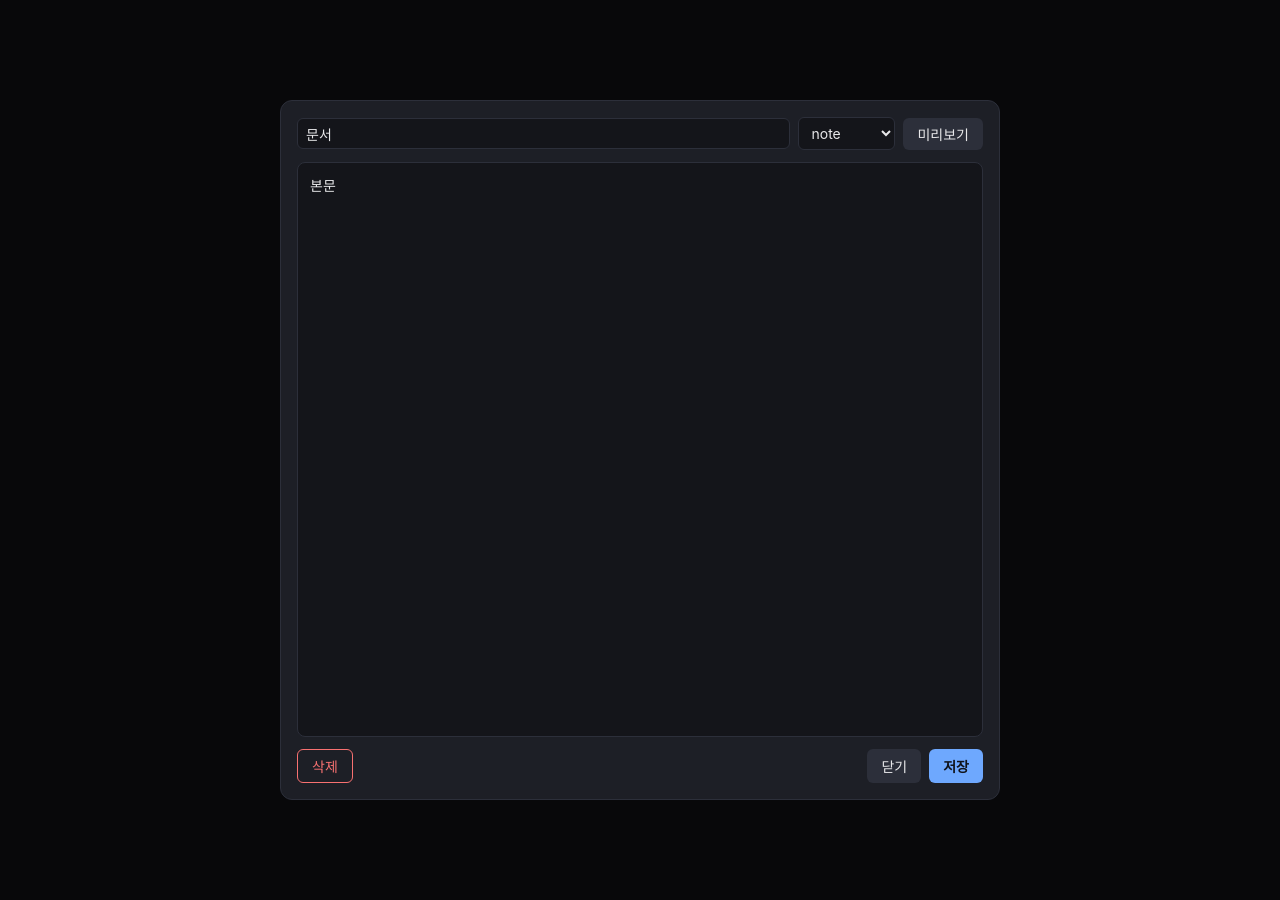
Test: 저장 실패 시 서버 detail을 그대로 보여주고 닫히지 않는다
Expected: the field named "제목" is shown, [297,118,790,149]
Click the button "저장". click: (956, 766)
box: [929,749,983,783]
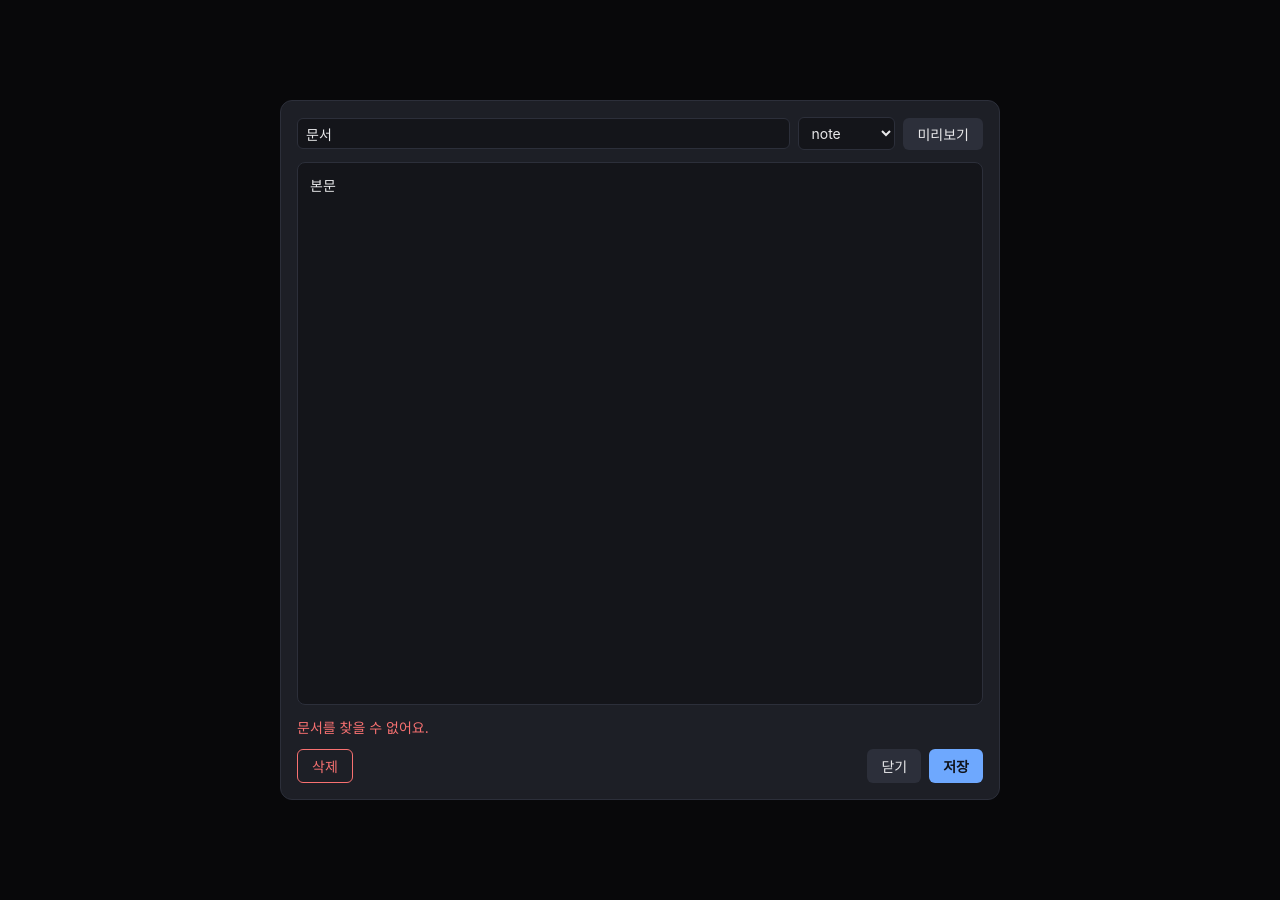
Expected: the text box named "본문" holds "본문", [297,162,983,705]
Expected: the text "문서를 찾을 수 없어요." is shown, [297,719,429,736]
